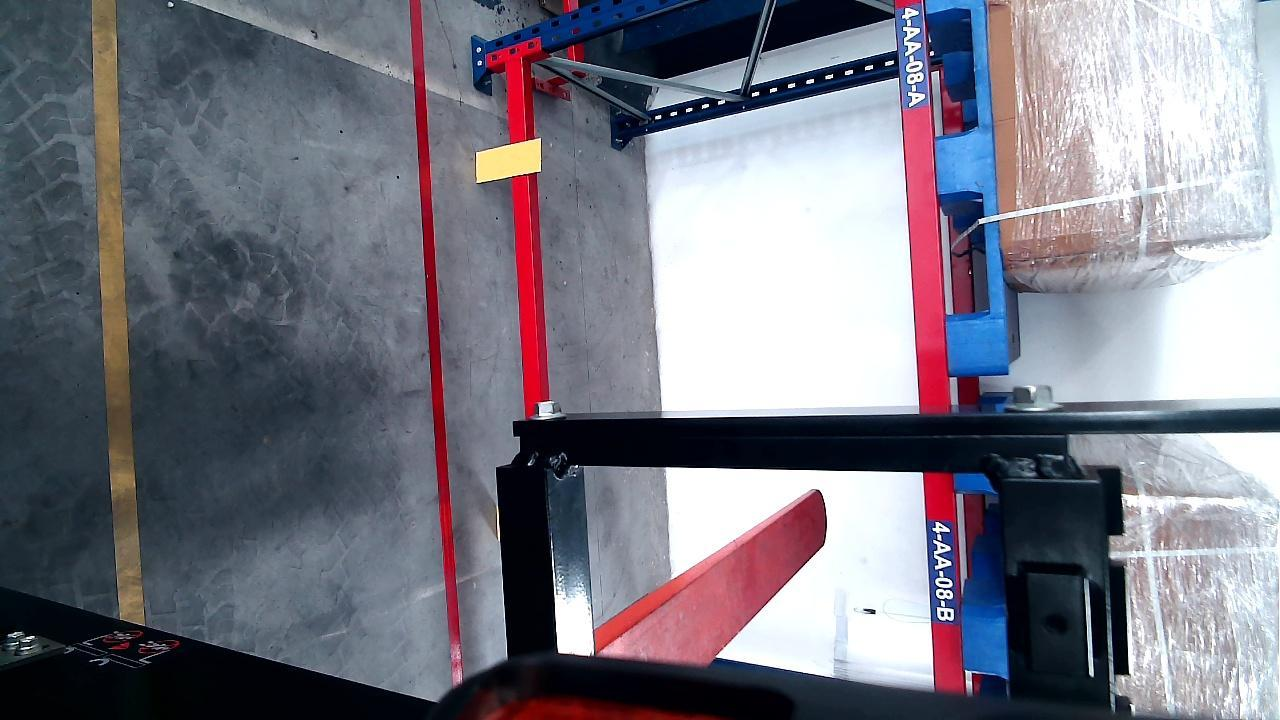red_line: (408, 0, 464, 683)
yellow_line: (89, 0, 145, 627)
